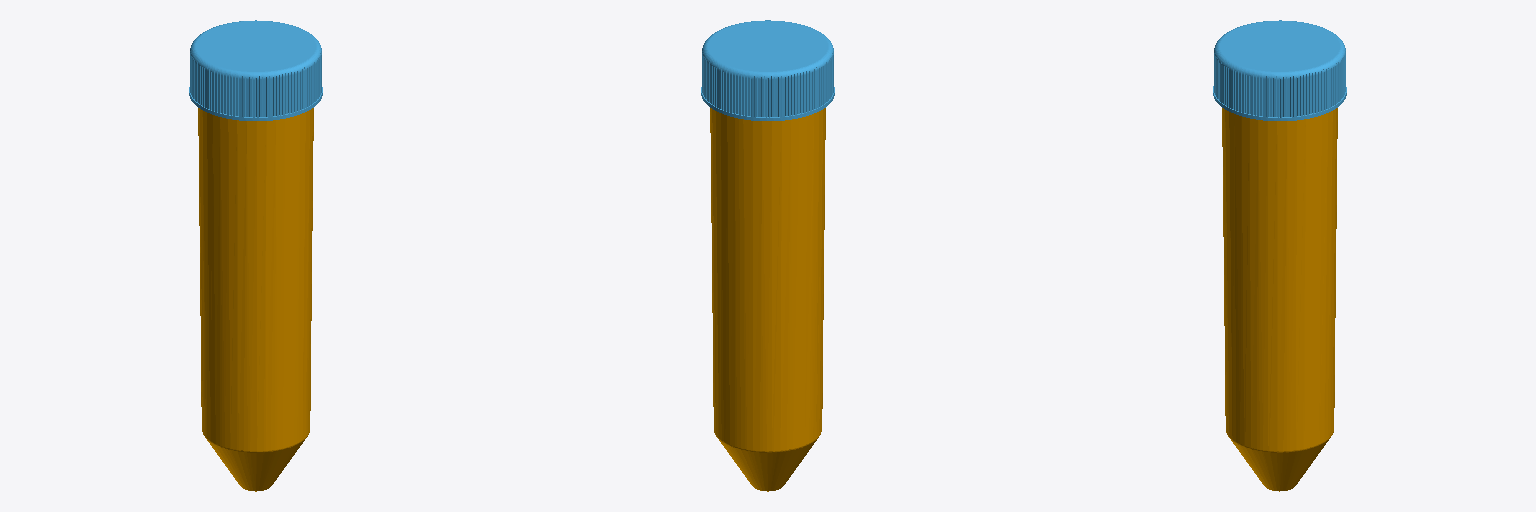
URDF robot description (cylinder.urdf):
<?xml version="1.0" ?>
<robot name="cylinder.urdf">
  <link name="cylinder">
    <visual>
      <origin rpy="0 0 0" xyz="0 0 0"/>
      <geometry>
        <mesh filename="package://cylinder/conicaltube050.stl" scale="0.001 0.001 0.001"/>
      </geometry>
    </visual>
    <collision>
      <origin rpy="0 0 0" xyz="0 0 0"/>
      <geometry>
        <mesh filename="package://cylinder/conicaltube050.stl" scale="0.001 0.001 0.001"/>
      </geometry>
    </collision>
    <inertial>
      <origin rpy="0 0 0" xyz="0 0 0"/>
      <mass value="0.05"/>
      <inertia ixx="10" ixy="0" ixz="0" iyy="10" iyz="0" izz="10"/>
    </inertial>
  </link>

  <link name="cap">
    <visual>
      <origin rpy="0 0 0" xyz="0 0 0"/>
      <geometry>
        <mesh filename="package://cylinder/cap_conicaltube050.stl" scale="0.001 0.001 0.001"/>

      </geometry>
    </visual>
    <collision>
      <origin rpy="0 0 0" xyz="0 0 0"/>
      <geometry>
        <mesh filename="package://cylinder/cap_conicaltube050.stl" scale="0.001 0.001 0.001"/>
      </geometry>
    </collision>
    <inertial>
      <origin rpy="0 0 0" xyz="0 0 0"/>
      <mass value="0.05"/>
      <inertia ixx="10" ixy="0" ixz="0" iyy="10" iyz="0" izz="10"/>
    </inertial>
  </link>

  <joint name="cap_joint" type="continuous">
    <origin rpy="0 0 0" xyz="0 0 0.06"/>
    <parent link="cylinder"/>
    <child link="cap"/>
    <axis xyz="1 1 1"/>
  </joint>
</robot>

--- What the picture shows (computed from the rendered views, not written in the file) ---
The picture shows the robot from 3 angles, left to right: view 1: azimuth 30°, elevation 25°; view 2: azimuth 150°, elevation 25°; view 3: azimuth 270°, elevation 25°; orthographic projection.
Robot: cylinder.urdf — 2 links, 1 joints (1 continuous); root link cylinder; default pose: every joint at zero.
Links seen in each view (by area): view 1: cylinder, cap; view 2: cylinder, cap; view 3: cylinder, cap.
Link boxes in pixels (box(x1,y1,x2,y2)): cylinder: box(198, 108, 313, 491); cap: box(189, 20, 322, 120); cylinder: box(710, 108, 825, 491); cap: box(701, 20, 834, 120); cylinder: box(1222, 108, 1337, 491); cap: box(1213, 20, 1346, 120).
Size in the robot's own frame: 0.0345 by 0.0345 by 0.1249 metres.
2 mesh visuals loaded from 2 distinct referenced files (2 binary STL).
